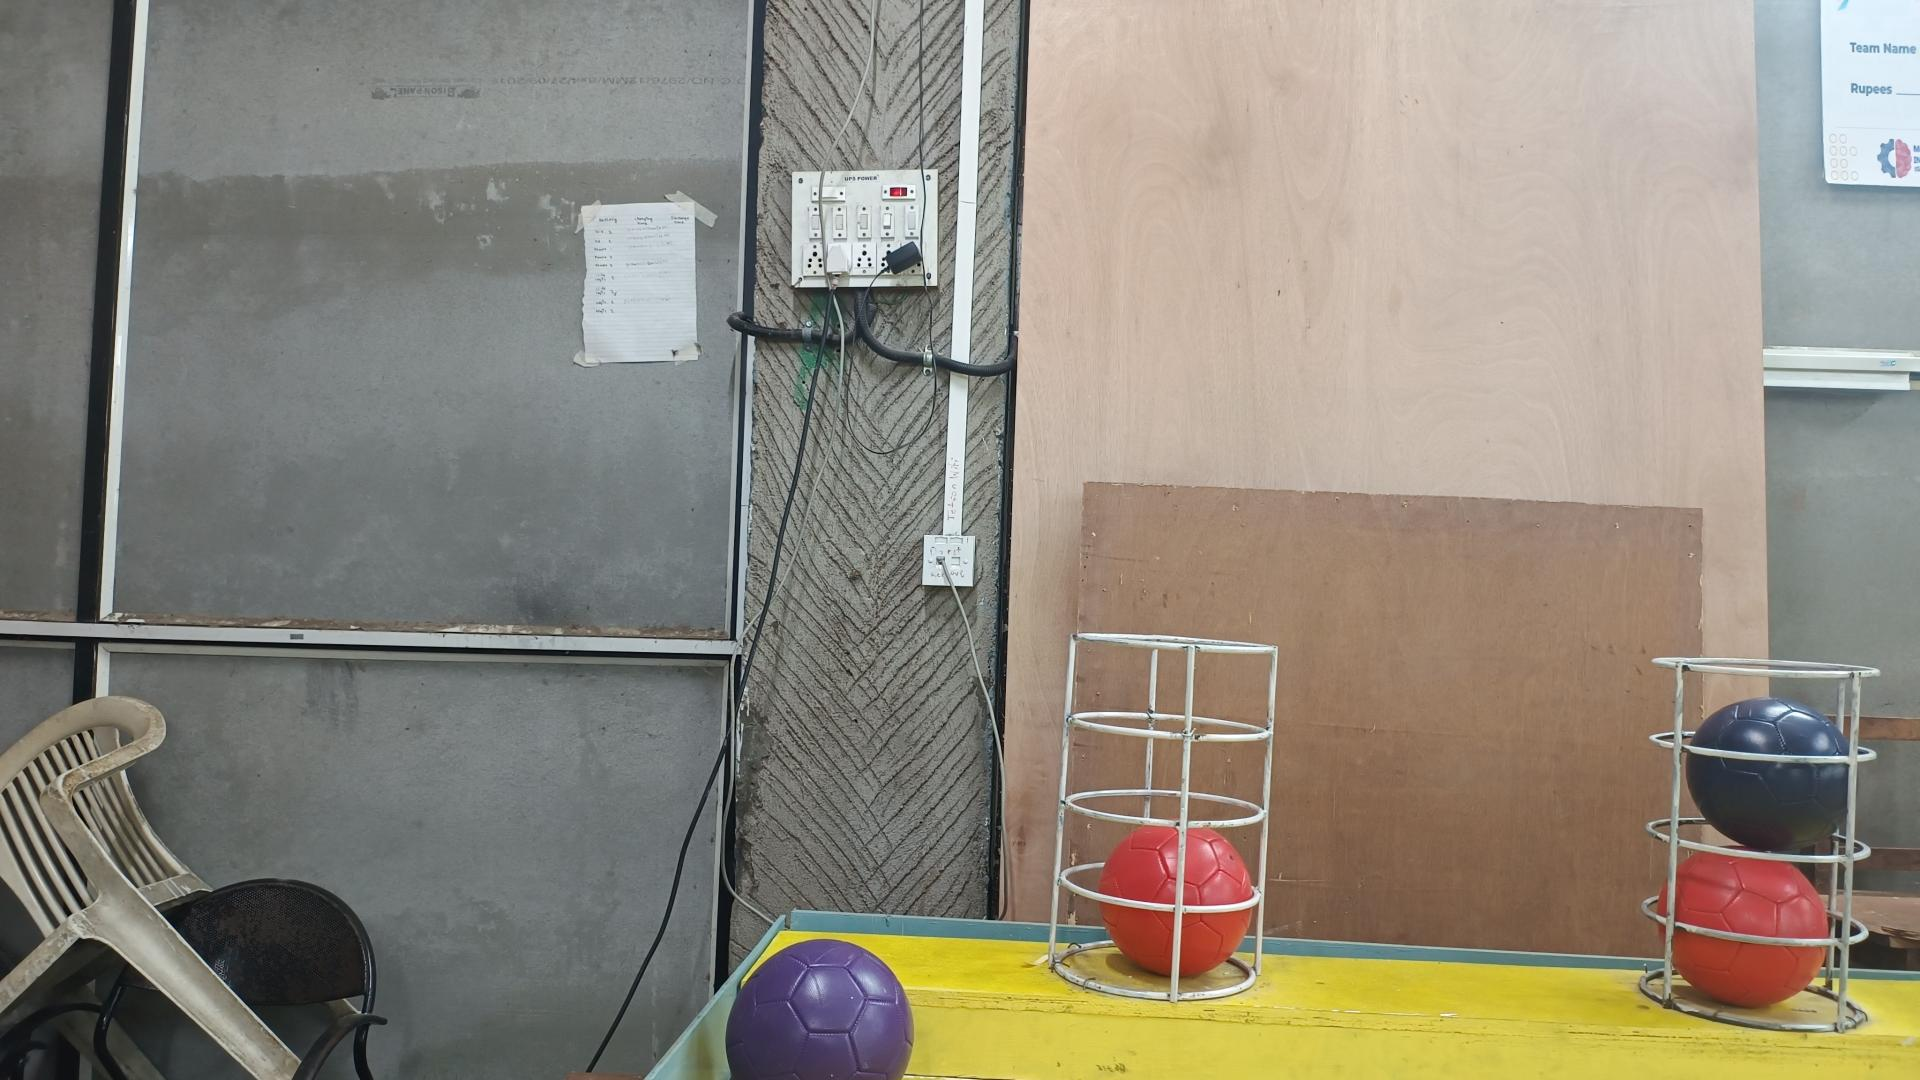dhoka: (1688, 698, 1849, 852)
laale: (1654, 852, 1830, 1009), (1095, 825, 1257, 975)
